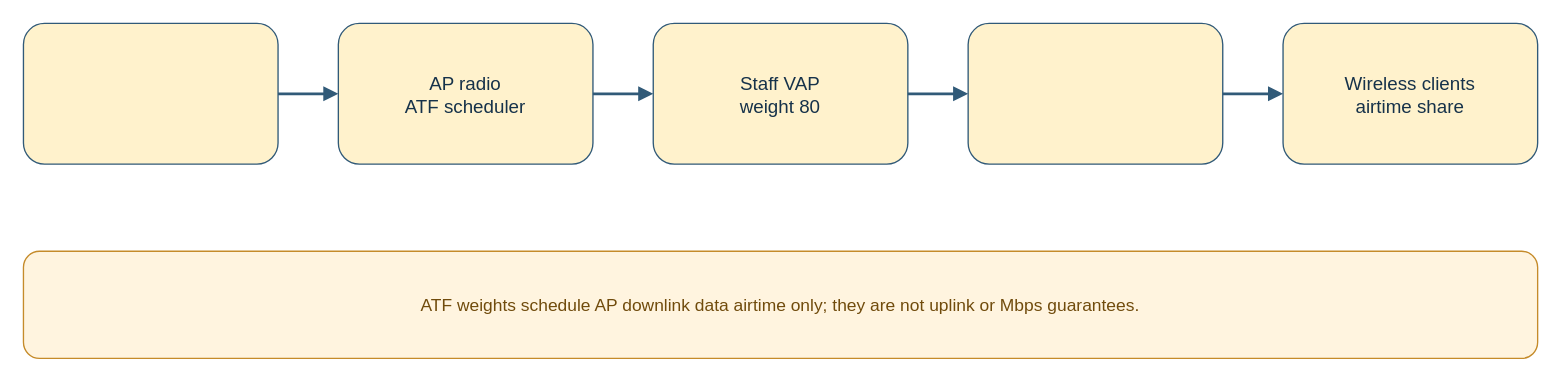
The diagram is 1561 pixels wide and 382 high, and some of its shapes have lost their labels. The shapes that lost their labels are listed below. From the top down, each one's box as (x1, y1, x2, y2) in pixels, then its label:
(22, 22, 278, 164): Ethernet traffic downlink queues
(967, 22, 1223, 164): Guest VAP weight 20
